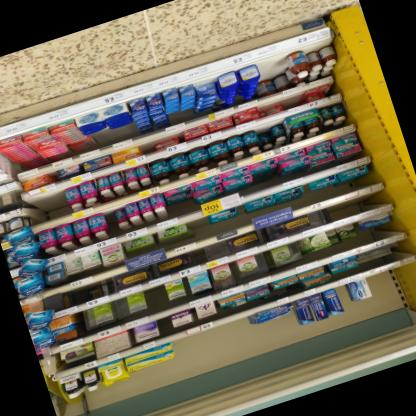empty_space: (173, 315, 256, 363), (368, 260, 416, 296), (191, 239, 226, 264), (325, 197, 357, 222), (30, 191, 54, 222), (354, 189, 383, 212), (50, 186, 69, 216), (74, 277, 109, 293), (190, 215, 213, 238), (145, 284, 167, 308), (283, 93, 300, 110), (141, 140, 153, 153)
